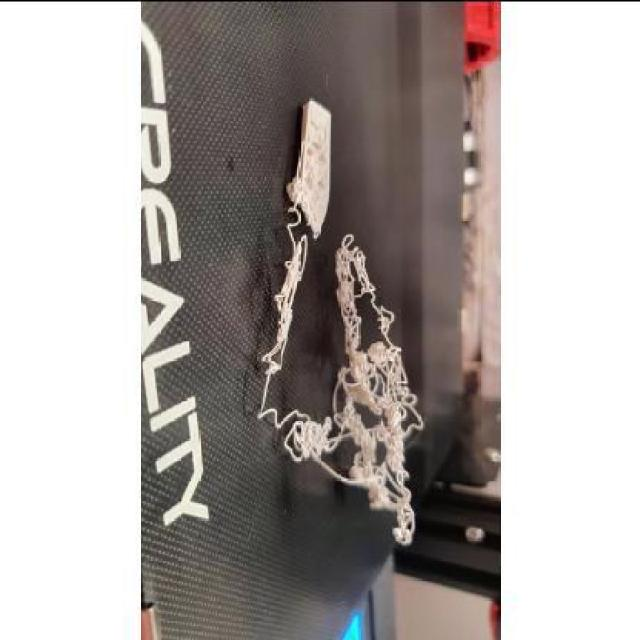Spaghetti: (253, 230, 430, 548), (282, 137, 308, 229)
